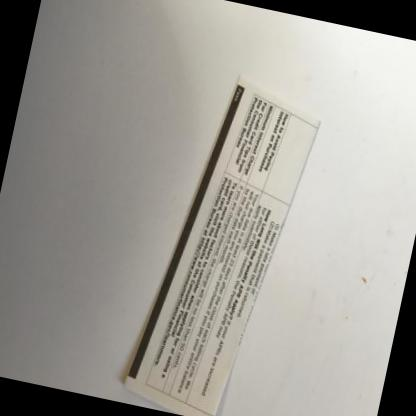Paper: (122, 77, 319, 416)
